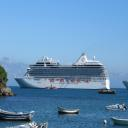cruises: (15, 52, 113, 91)
